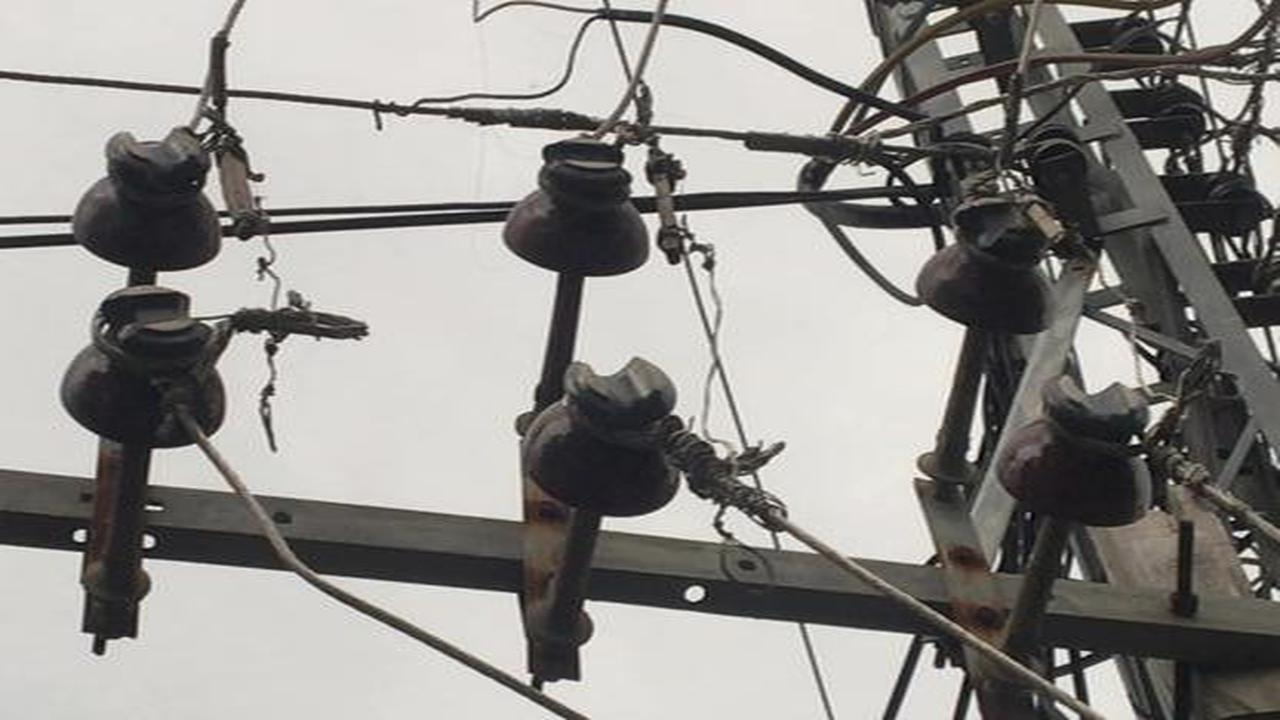insulator_pin: (60, 284, 233, 448), (993, 369, 1159, 536), (516, 355, 681, 523), (501, 131, 655, 278), (71, 124, 222, 268), (915, 192, 1052, 335)
